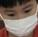with_mask: (1, 2, 38, 37)
